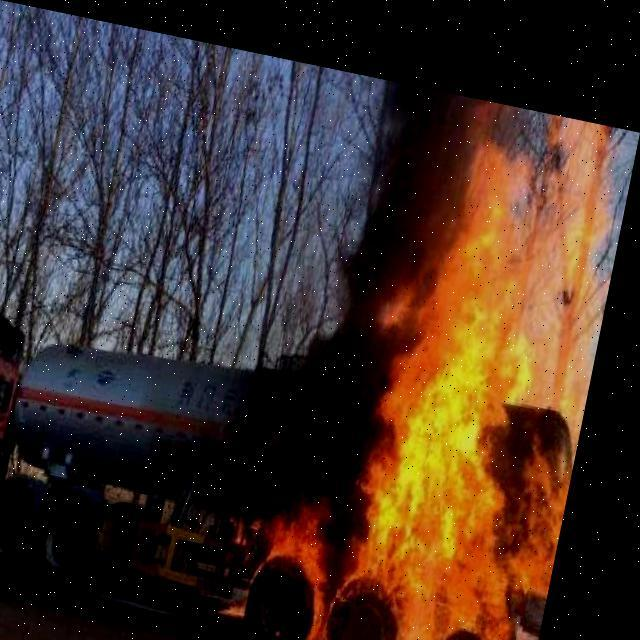Fire: (232, 53, 639, 640)
